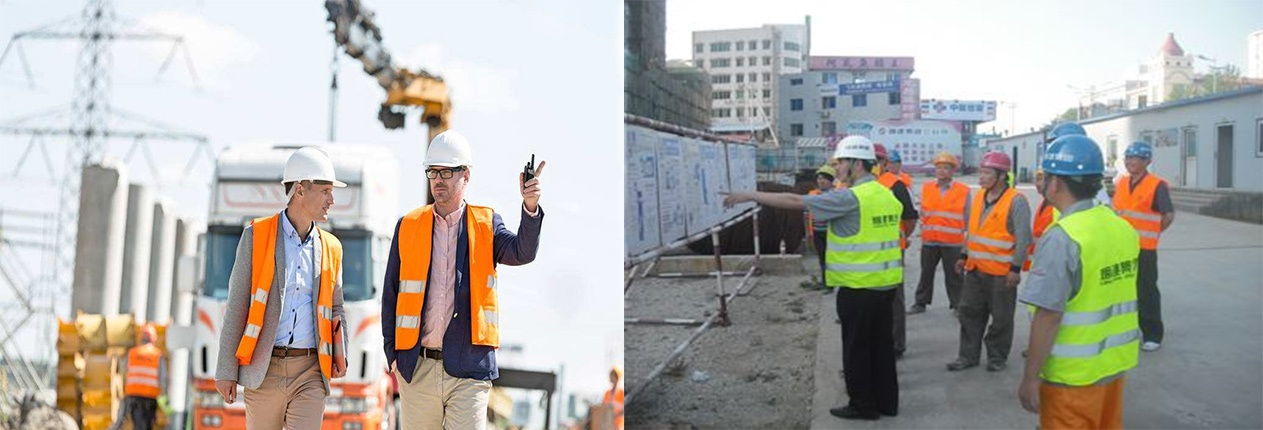blue: (1038, 132, 1112, 215), (1121, 138, 1156, 177)
red: (974, 149, 1010, 192)
white: (281, 147, 338, 226), (422, 128, 475, 211), (830, 132, 878, 190)
yellow: (929, 150, 959, 185)
